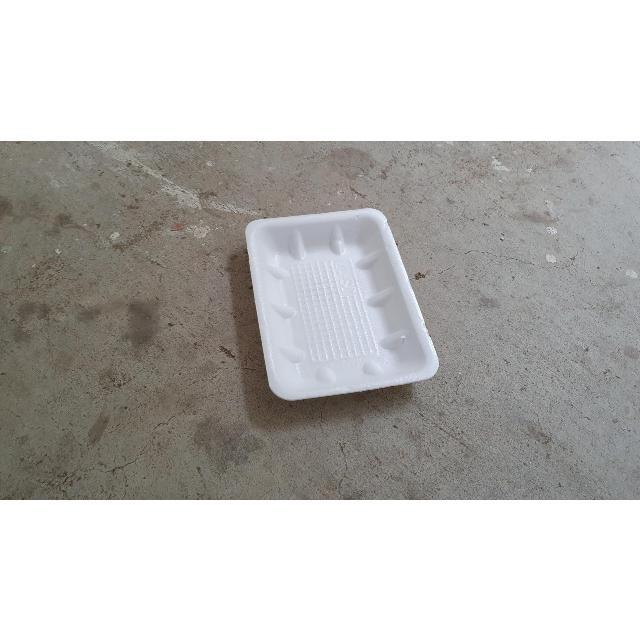Plastico descartable: (244, 209, 439, 402)
